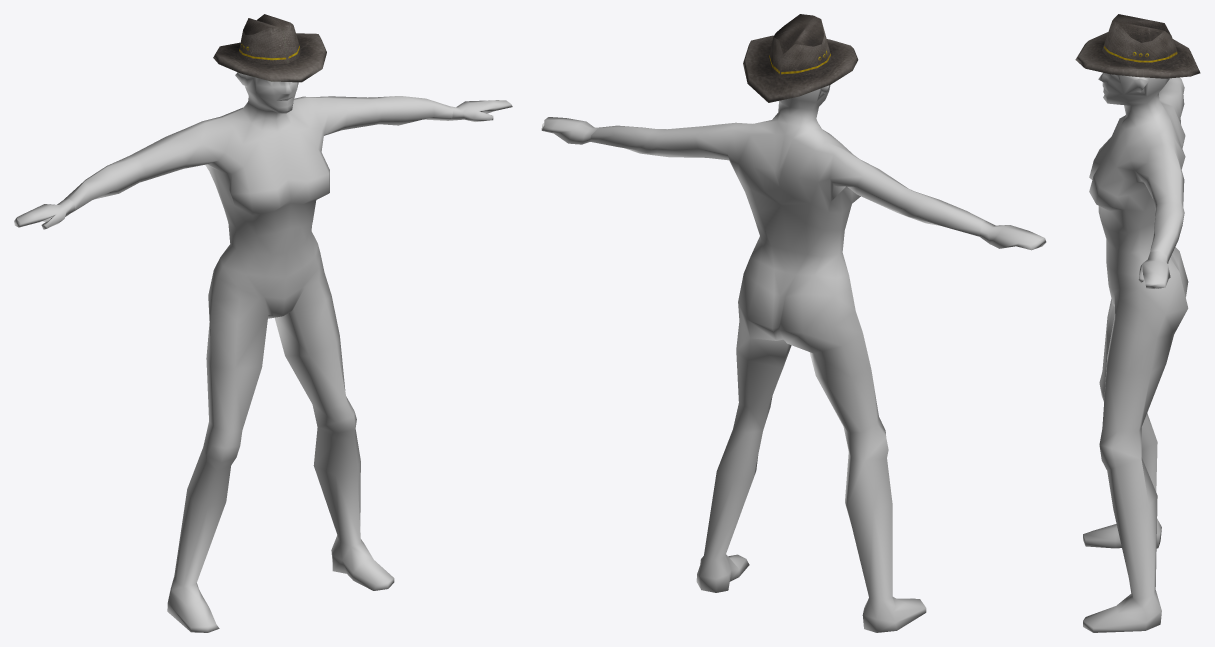
Rendered from Armor_Female_duster_hat.obj.
The picture shows the model from 3 angles, left to right: view 1: azimuth 30°, elevation 25°; view 2: azimuth 150°, elevation 25°; view 3: azimuth 270°, elevation 25°; orthographic projection. The views are drawn at different scales.
Parts seen in each view (by area): view 1: Female_body, Armor_Female_duster_hat; view 2: Female_body, Armor_Female_duster_hat; view 3: Female_body, Armor_Female_duster_hat.
Part boxes in pixels (left/top/right/bottom): Female_body: left=14, top=72, right=512, bottom=632; Armor_Female_duster_hat: left=213, top=14, right=326, bottom=82; Female_body: left=541, top=85, right=1046, bottom=632; Armor_Female_duster_hat: left=743, top=14, right=858, bottom=102; Female_body: left=1083, top=72, right=1188, bottom=632; Armor_Female_duster_hat: left=1075, top=14, right=1200, bottom=78.
Bounding box in the file's own units: 88.8 × 98.44 × 19.77.
